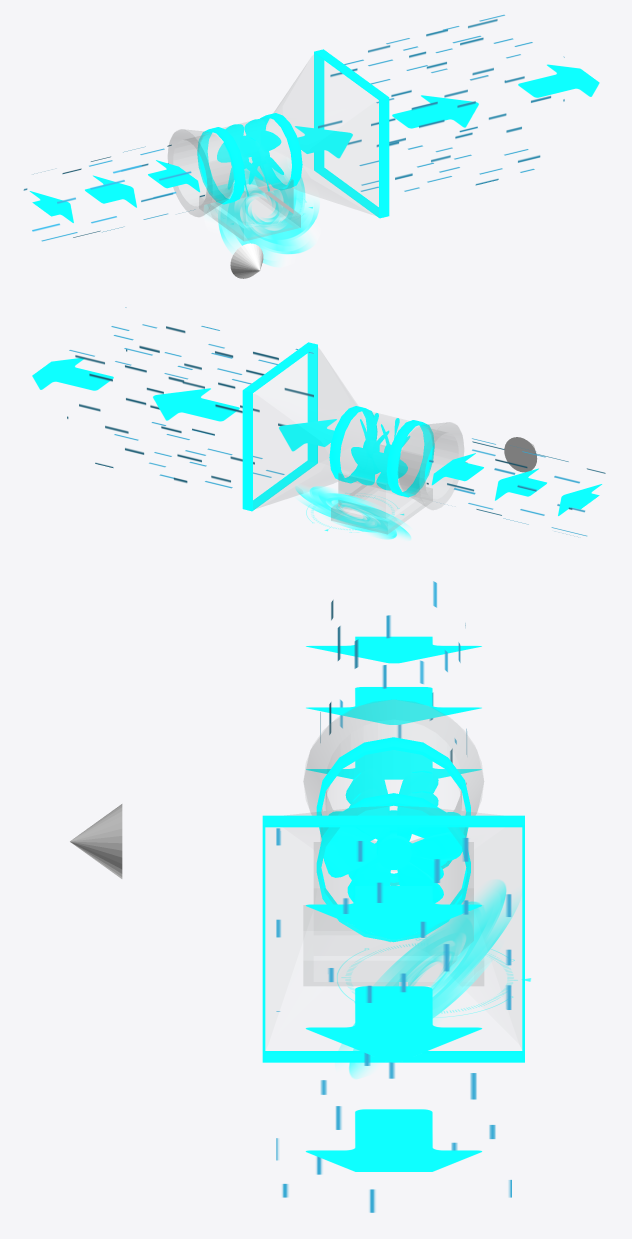
Rendered from ceshi518.gltf.
The picture shows the model from 3 angles, top to bottom: view 1: azimuth 30°, elevation 25°; view 2: azimuth 150°, elevation 25°; view 3: azimuth 270°, elevation 25°; orthographic projection. The views are drawn at different scales.
Visible parts, largest first — view 1: Circle003, 物体.006, Circle001, 物体.003, 物体.007, 物体.001, 物体.005, 物体.008, 物体.009, 物体.004, 物体.002, 锥体 (+2 smaller); view 2: 物体.006, Circle001, 物体.003, 物体.007, 物体.001, Circle003, 物体.005, 物体.008, 物体.009, 物体.004, Circle002, 锥体 (+2 smaller); view 3: 物体.006, 物体.007, Circle001, Circle003, 物体.009, 物体.003, 物体.004, 物体.005, 物体.008, 物体.002, 锥体, Circle002.
Boxes of the visible parts, <box> form: Circle003: <box>204,154,319,267</box>; 物体.006: <box>295,64,599,158</box>; Circle001: <box>168,129,233,216</box>; 物体.003: <box>314,49,389,218</box>; 物体.007: <box>199,179,300,241</box>; 物体.001: <box>274,54,376,215</box>; 物体.005: <box>197,113,302,204</box>; 物体.008: <box>318,14,564,191</box>; 物体.009: <box>29,160,199,222</box>; 物体.004: <box>244,119,283,191</box>; 物体.002: <box>217,124,263,196</box>; 锥体: <box>230,243,263,278</box>; 物体.006: <box>32,358,336,451</box>; Circle001: <box>398,422,463,509</box>; 物体.003: <box>242,342,317,511</box>; 物体.007: <box>331,445,432,534</box>; 物体.001: <box>255,347,357,508</box>; Circle003: <box>295,485,411,540</box>; 物体.005: <box>329,406,434,497</box>; 物体.008: <box>67,307,313,488</box>; 物体.009: <box>431,453,601,515</box>; 物体.004: <box>351,413,389,485</box>; Circle002: <box>426,438,605,537</box>; 锥体: <box>504,437,537,472</box>; 物体.006: <box>305,886,482,1171</box>; 物体.007: <box>303,842,483,985</box>; Circle001: <box>303,700,483,871</box>; Circle003: <box>335,879,521,1078</box>; 物体.009: <box>306,636,481,779</box>; 物体.003: <box>262,815,524,1062</box>; 物体.004: <box>323,788,462,903</box>; 物体.005: <box>316,737,470,942</box>; 物体.008: <box>276,828,511,1212</box>; 物体.002: <box>323,768,464,880</box>; 锥体: <box>70,804,122,878</box>; Circle002: <box>320,581,466,783</box>.
Bounding box in the file's own units: 17.24 × 4.86 × 6.71.
8 materials, 4 textured.
